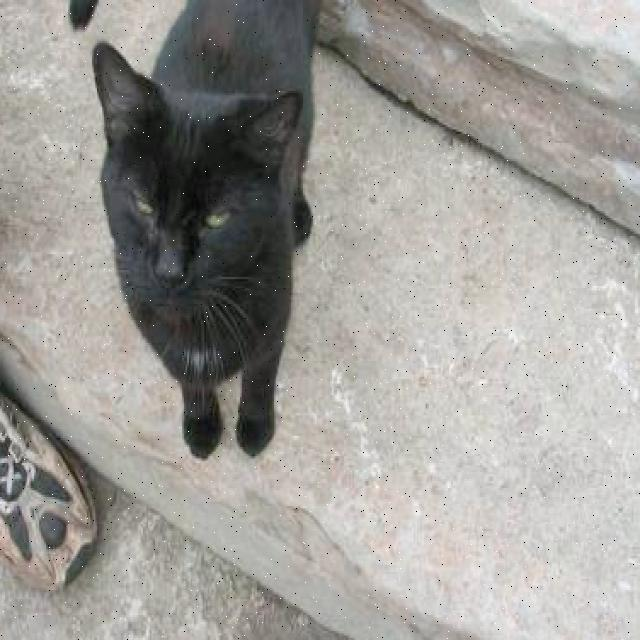Cat: (78, 43, 306, 343)
